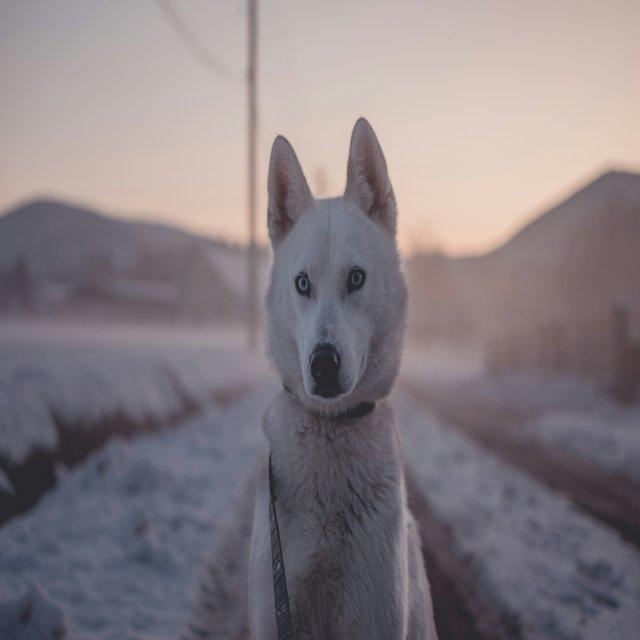husky: (178, 115, 439, 638)
